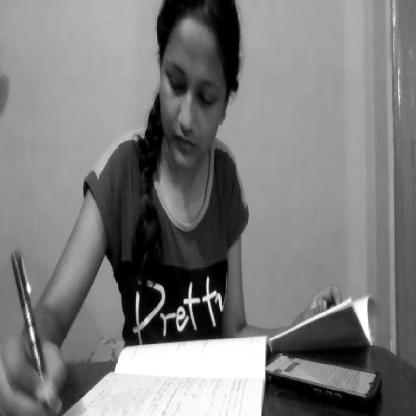Normal: (149, 0, 242, 174)
